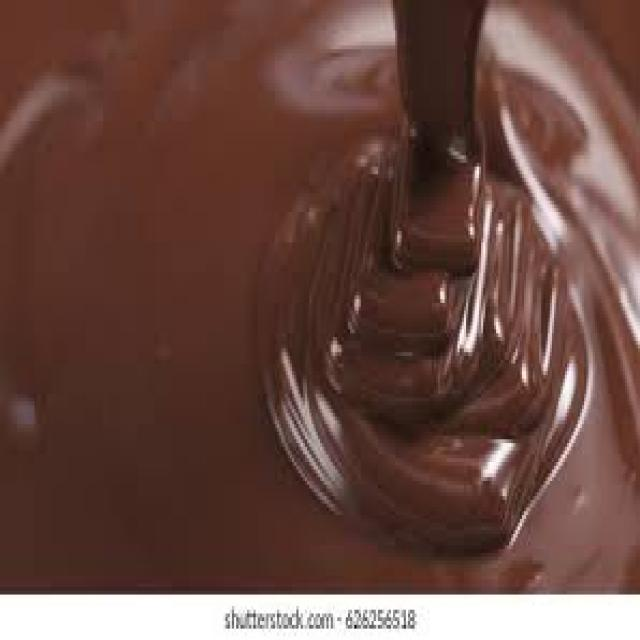Chocolate: (0, 0, 640, 592)
